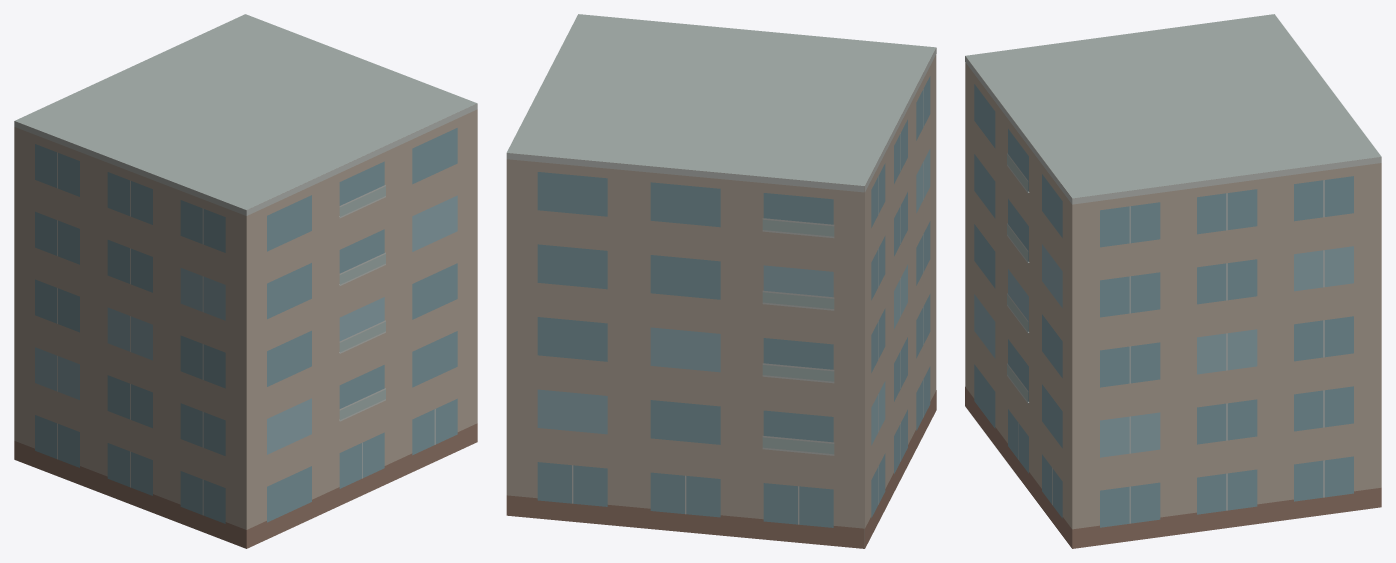
The model's file is survey-upis-32886770.glb.
3 views of the same model, side by side, from view 1: azimuth 30°, elevation 25°; view 2: azimuth 150°, elevation 25°; view 3: azimuth 270°, elevation 25° (orthographic). The views are drawn at different scales.
Visible parts, largest first — view 1: survey-upis-32886770.tmp; view 2: survey-upis-32886770.tmp; view 3: survey-upis-32886770.tmp.
Boxes of the visible parts, <box> form: survey-upis-32886770.tmp: <box>14,14,477,548</box>; survey-upis-32886770.tmp: <box>506,14,936,548</box>; survey-upis-32886770.tmp: <box>965,14,1381,548</box>.
Bounding box in the file's own units: 15.76 × 13.95 × 15.04.
